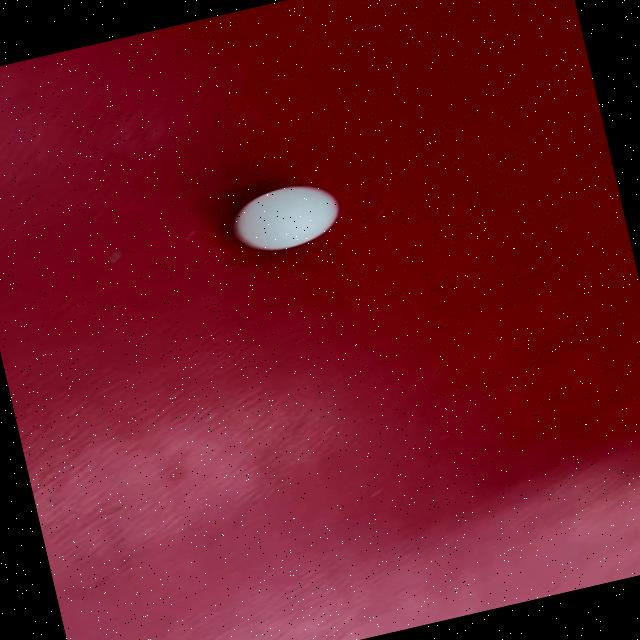ping-pong-ball: (224, 173, 345, 264)
